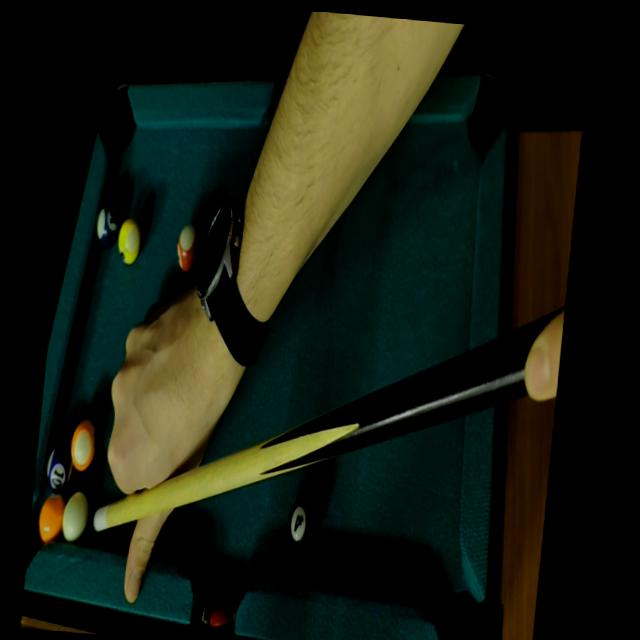cue ball: (57, 481, 95, 550)
other: (68, 410, 104, 477), (36, 486, 71, 552), (43, 434, 77, 496), (113, 212, 145, 274), (93, 194, 126, 252), (173, 216, 203, 279)
